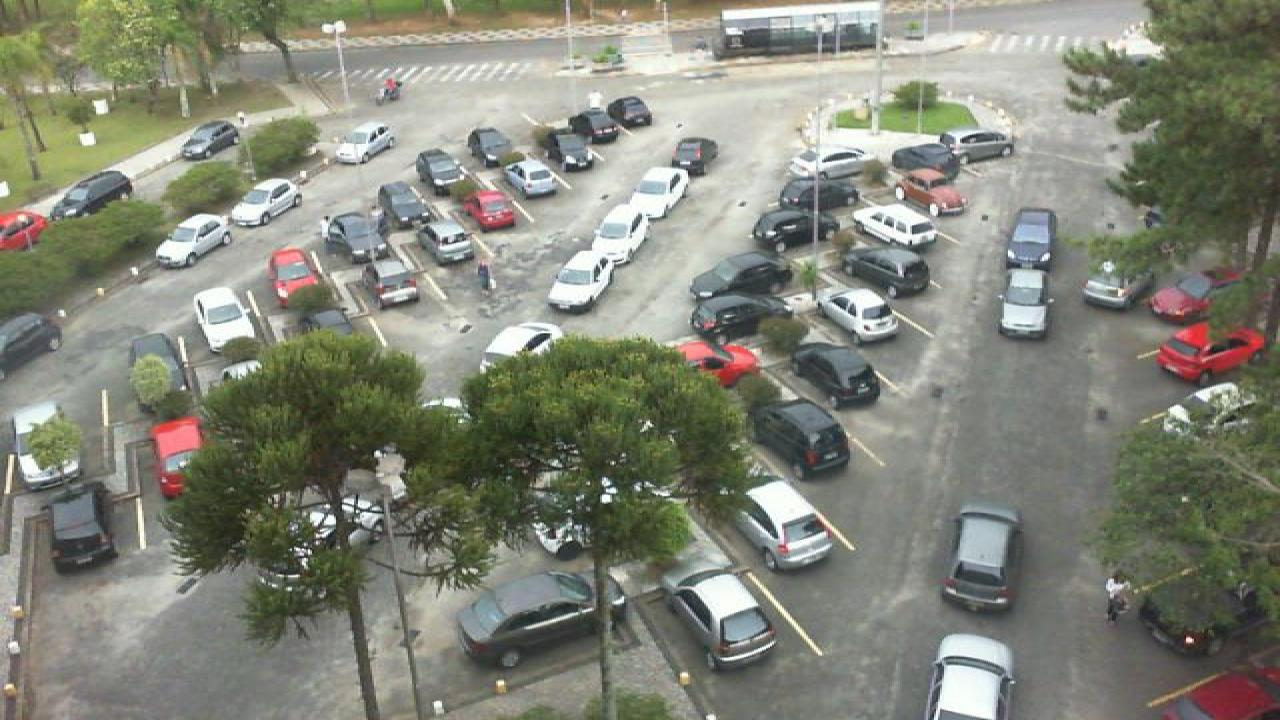Car: (452, 568, 626, 668), (662, 556, 780, 671), (722, 478, 836, 573), (938, 505, 1022, 615), (748, 395, 852, 480), (918, 630, 1016, 720), (1154, 319, 1268, 387), (40, 479, 120, 574), (10, 400, 86, 492), (790, 339, 884, 412), (1162, 668, 1280, 720), (148, 416, 212, 503), (688, 290, 798, 339), (126, 332, 196, 408), (690, 250, 794, 300), (666, 338, 762, 391), (1146, 267, 1232, 326), (840, 244, 932, 297), (192, 286, 264, 352), (820, 287, 900, 346), (154, 213, 236, 270), (48, 168, 136, 220), (546, 250, 616, 314), (0, 310, 64, 375), (852, 202, 942, 248), (750, 207, 840, 253), (998, 268, 1052, 340), (1080, 258, 1154, 310), (1000, 206, 1060, 270), (482, 320, 564, 366), (228, 178, 306, 226), (900, 168, 970, 218), (590, 203, 648, 262), (322, 212, 390, 262), (886, 142, 962, 185), (266, 248, 326, 300), (630, 165, 690, 216), (362, 254, 420, 306), (414, 215, 478, 262), (330, 122, 396, 166), (374, 180, 432, 230), (178, 120, 244, 162), (788, 147, 872, 180), (460, 189, 520, 234), (942, 128, 1016, 164), (500, 159, 560, 200), (416, 148, 466, 194), (516, 114, 566, 158), (466, 126, 514, 170), (0, 209, 48, 251), (546, 131, 596, 171), (670, 137, 718, 177), (568, 107, 618, 144), (606, 96, 654, 130)
